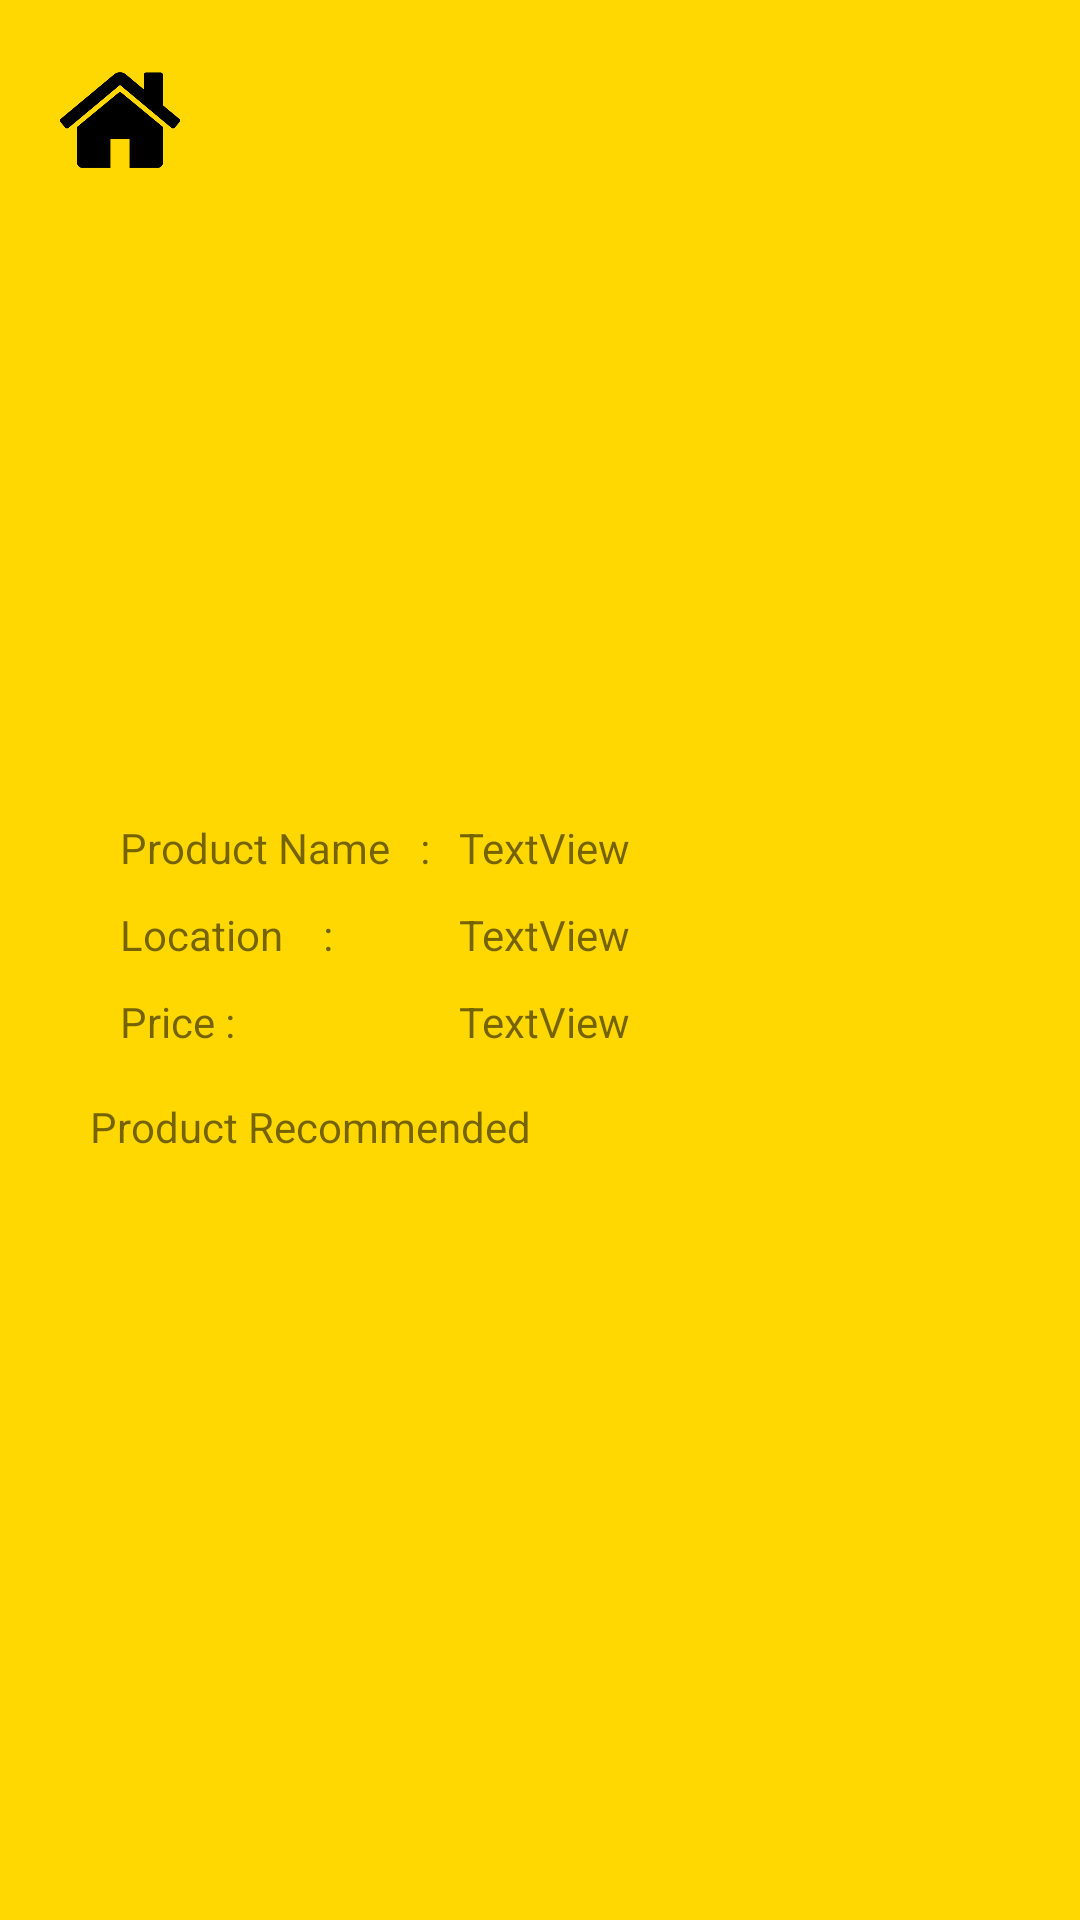

Locate icon controls on the screen. Image size 1080x1920, boxes as (x1,y1,x2,y2).
home: (60,72,180,168)
